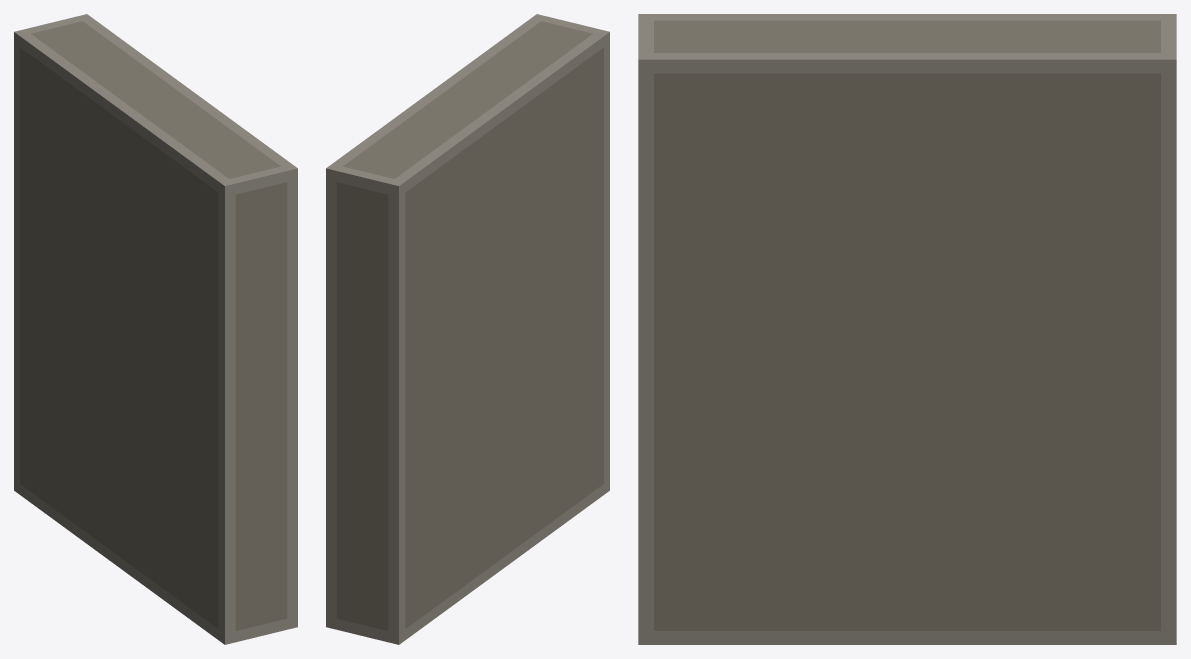
File: Wall_A_1_1.fbx
3 views of the same model, side by side, from view 1: azimuth 30°, elevation 25°; view 2: azimuth 150°, elevation 25°; view 3: azimuth 270°, elevation 25° (orthographic). The views are drawn at different scales.
Parts seen in each view (by area): view 1: Wall_A_1_1; view 2: Wall_A_1_1; view 3: Wall_A_1_1.
Boxes of the visible parts, x1,y1,x2,y2 form: Wall_A_1_1: [14, 14, 297, 644]; Wall_A_1_1: [326, 14, 609, 644]; Wall_A_1_1: [638, 14, 1176, 644].
Size of the model in its own units: 40 by 240 by 200.
